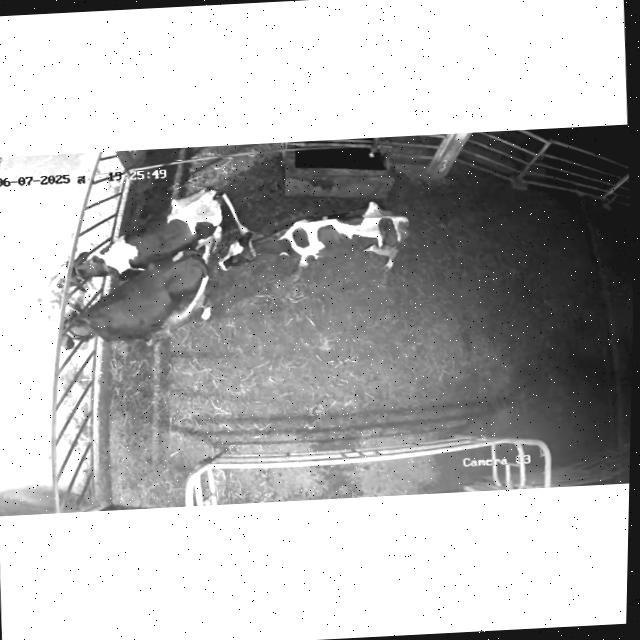stand: (218, 200, 409, 274)
